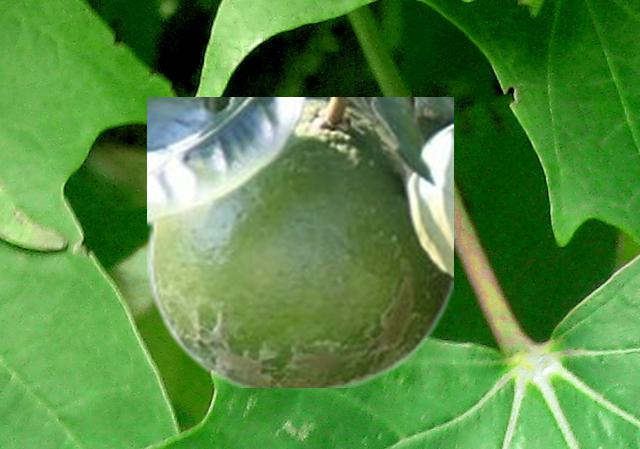dalandan: (147, 97, 452, 386)
